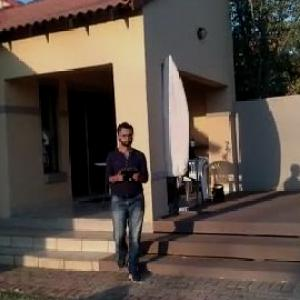follow: (104, 119, 152, 285)
